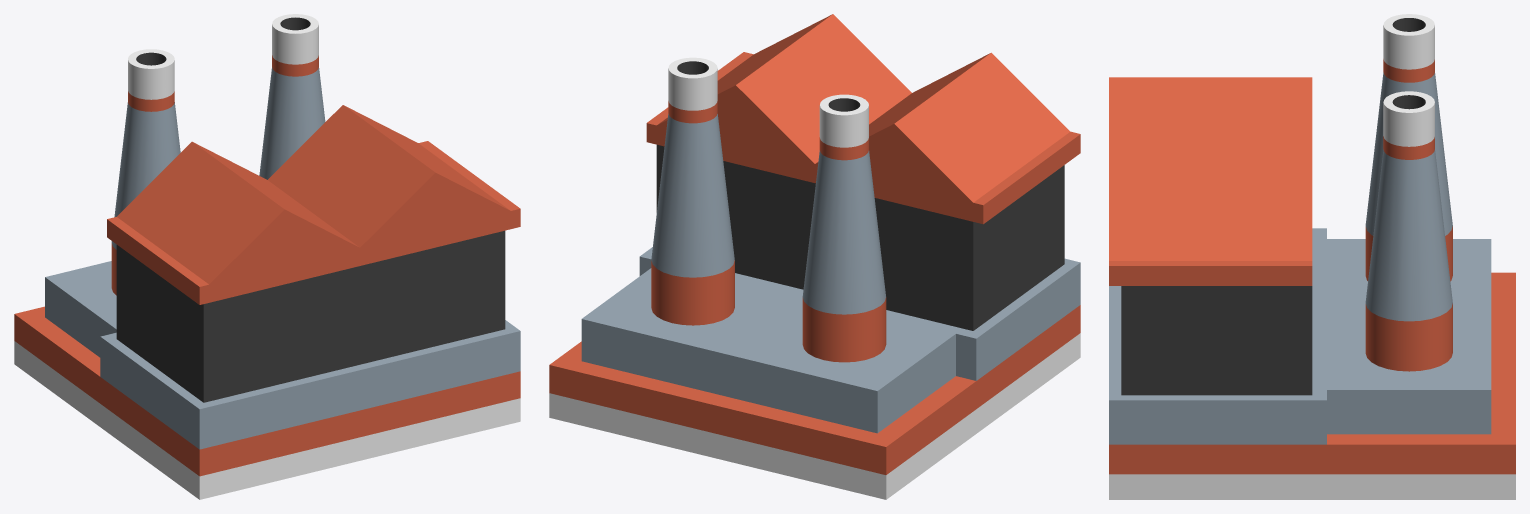
File: buildingCorridorFactoryStacks_exclusive.fbx
The picture shows the model from 3 angles, left to right: view 1: azimuth 30°, elevation 25°; view 2: azimuth 150°, elevation 25°; view 3: azimuth 270°, elevation 25°; orthographic projection. The views are drawn at different scales.
Parts seen in each view (by area): view 1: buildingCorridorFactoryStacks_exclusive; view 2: buildingCorridorFactoryStacks_exclusive; view 3: buildingCorridorFactoryStacks_exclusive.
Boxes of the visible parts, x1=… form: buildingCorridorFactoryStacks_exclusive: x1=14, y1=14, x2=520, y2=499; buildingCorridorFactoryStacks_exclusive: x1=549, y1=14, x2=1080, y2=499; buildingCorridorFactoryStacks_exclusive: x1=1109, y1=14, x2=1515, y2=499.
Size of the model in its own units: 10 by 9.5 by 10.
